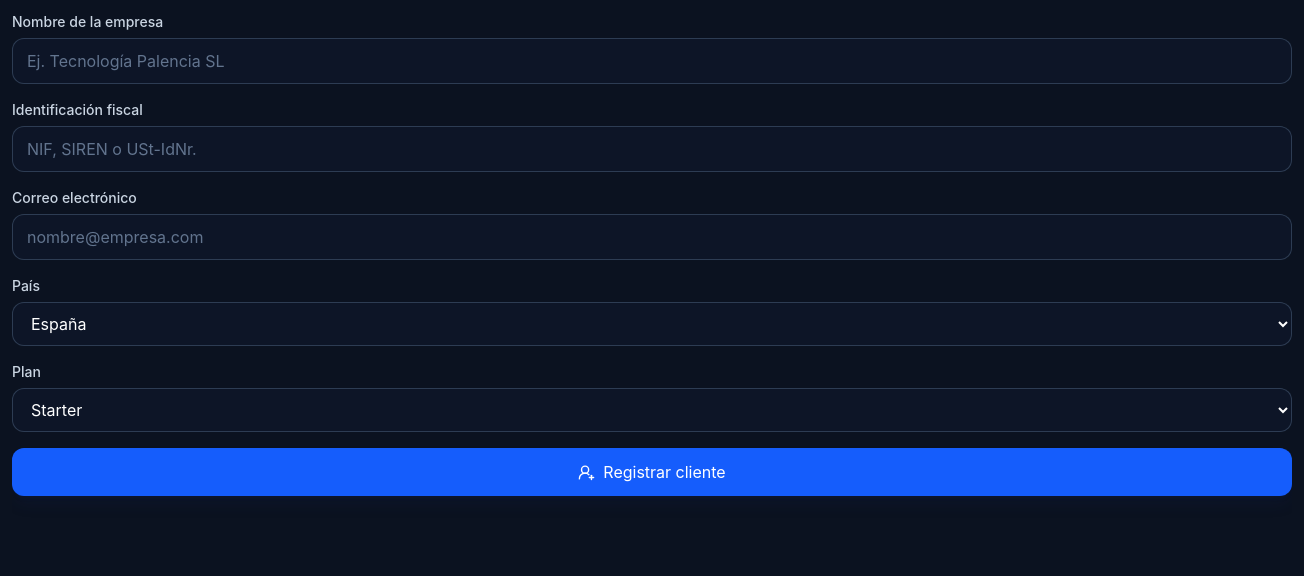
CustomerForm validation feedback › shows a Spanish message for an existing tax ID
Type "Empresa de prueba" into the field labelled "Nombre de la empresa" at [652, 61], box [12,38,1292,84]
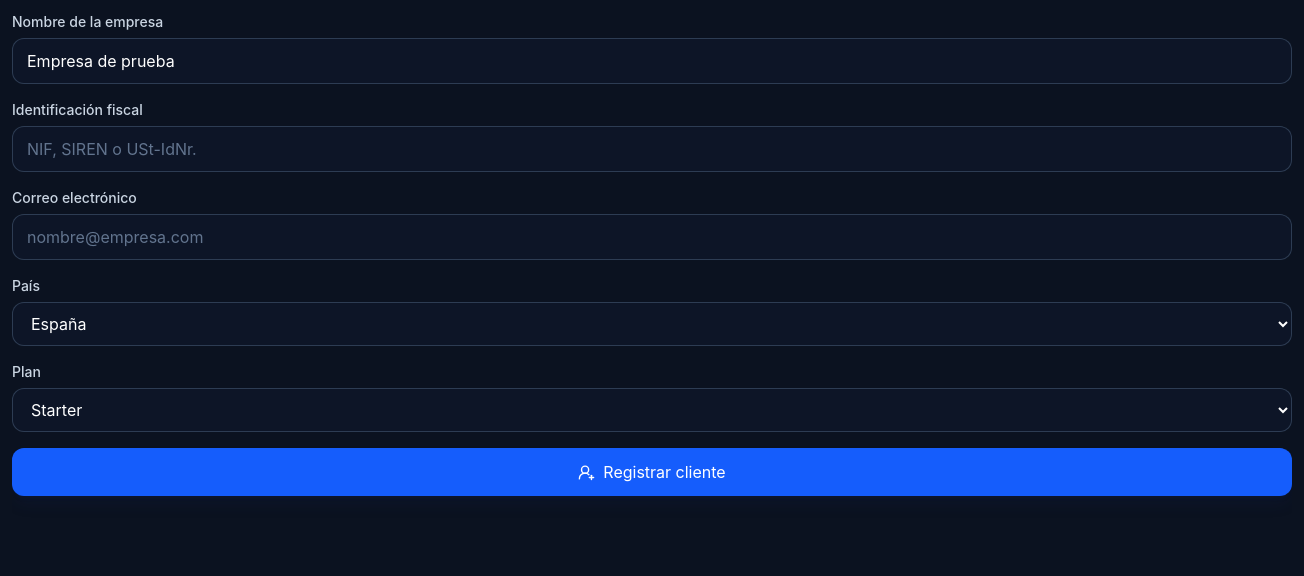
Type "12345678Z" into the field labelled "Identificación fiscal" at [652, 149], box [12,126,1292,172]
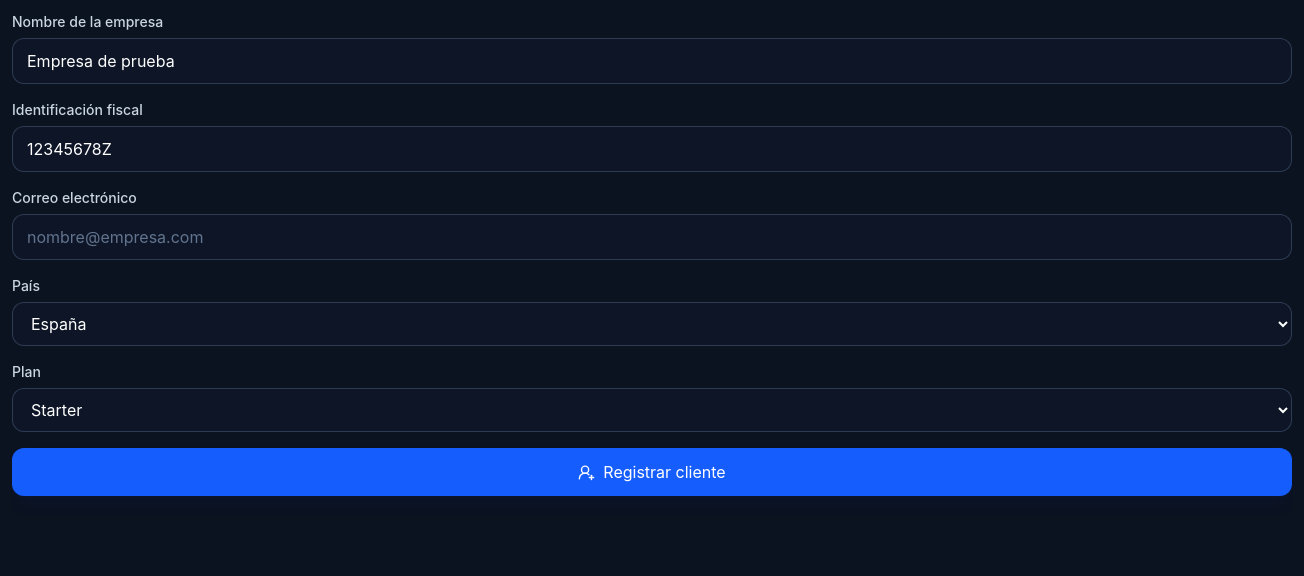
Type "contacto@empresa.test" into the field labelled "Correo electrónico" at [652, 237], box [12,214,1292,260]
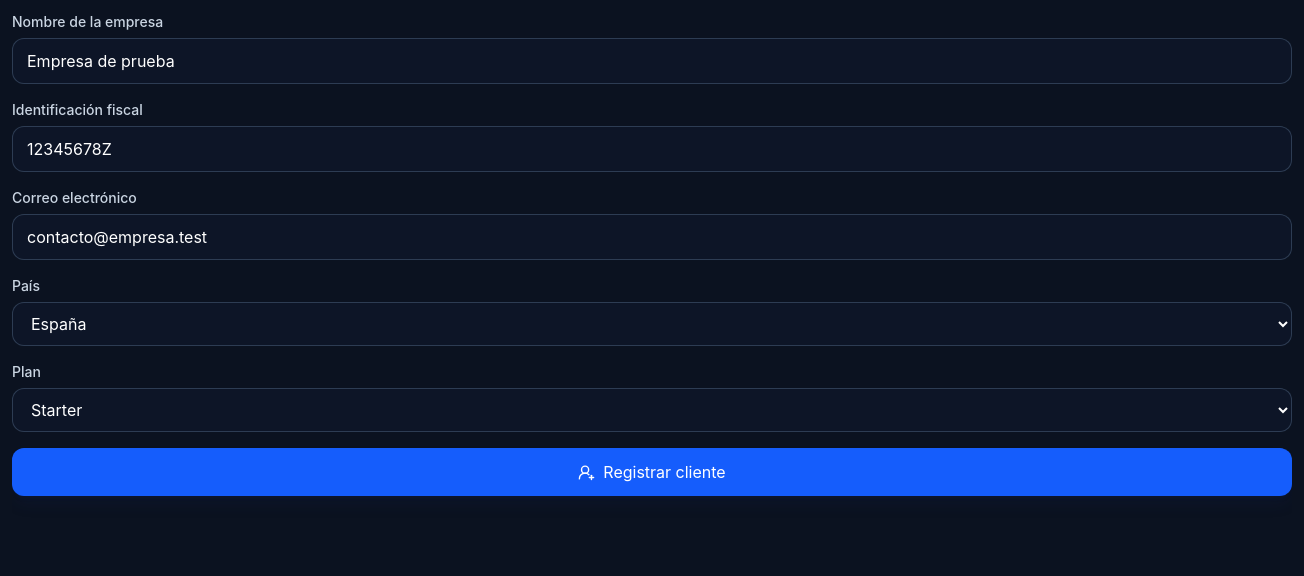
Select "España" in the dropdown labelled "País" at [652, 324], box [12,302,1292,346]
Submit the form named "Registrar cliente"
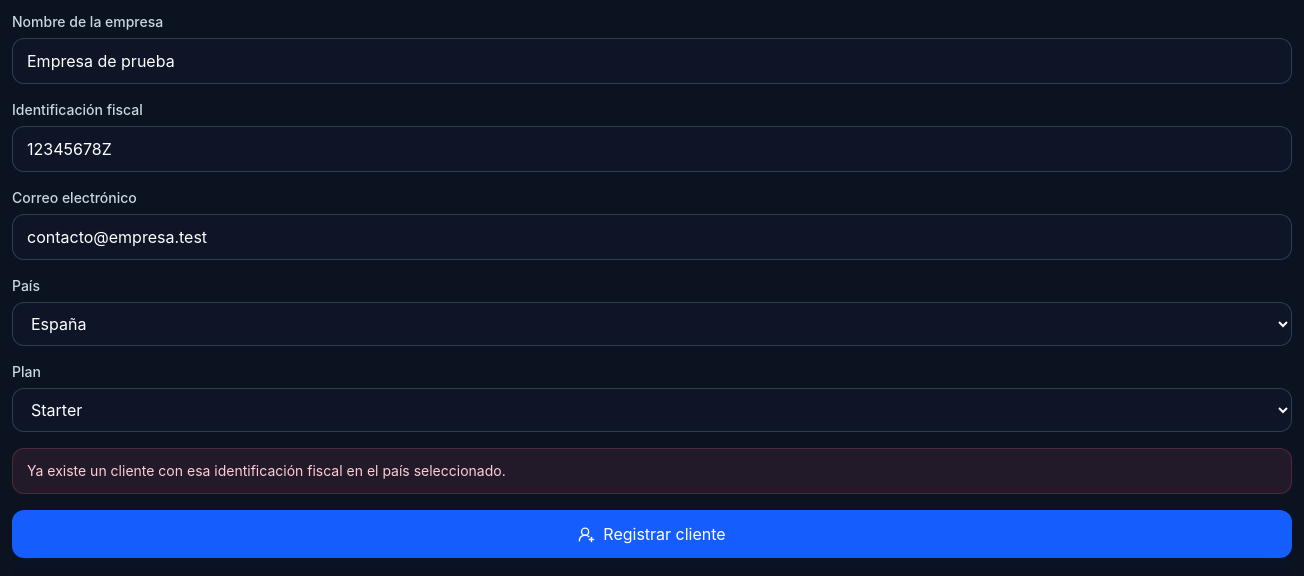
Expected: the message reads "Ya existe un cliente con esa identificación fiscal en el país seleccionado.", [27,462,506,479]
